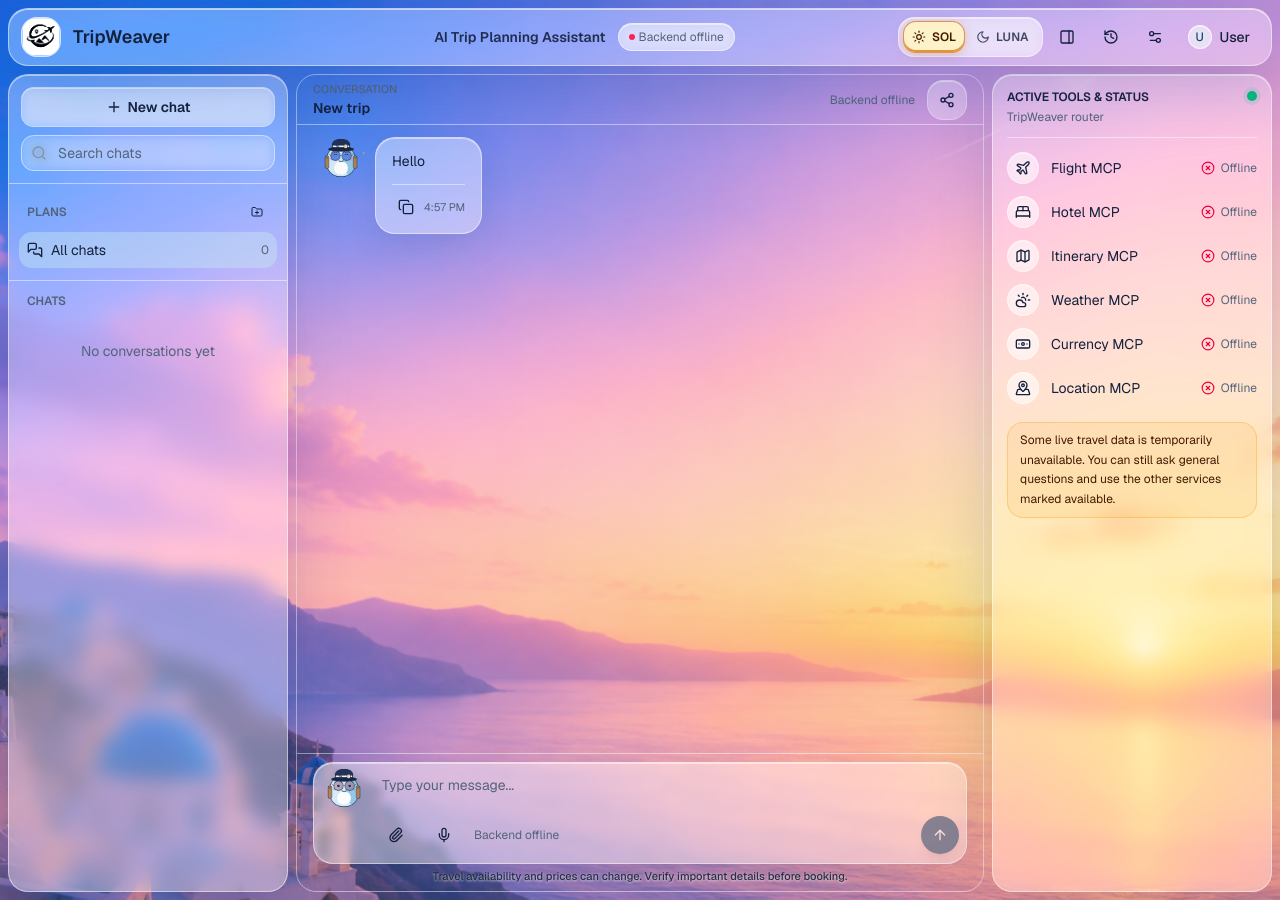
Test case: TripWeaverApp › keeps the welcome quiet and shows travel suggestions after a travel request
Expected: the button "Flights" is not shown
Type "I want to travel to Japan" into the text box named "Message TripWeaver".
click(667, 791); type("I want to travel to Japan")  # box [374, 769, 960, 813]
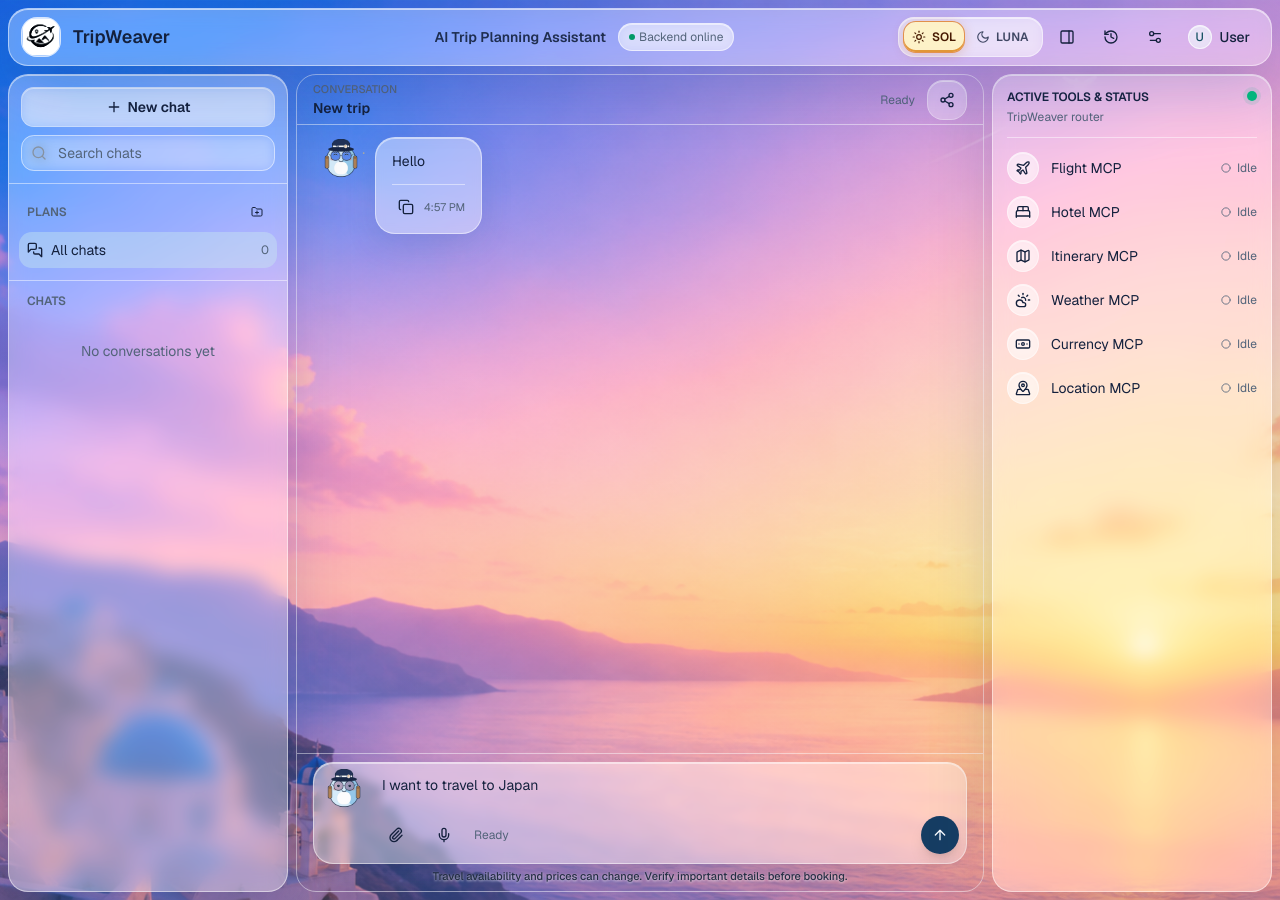
Click the button named "Send message".
click(940, 835)  # box [920, 815, 960, 855]
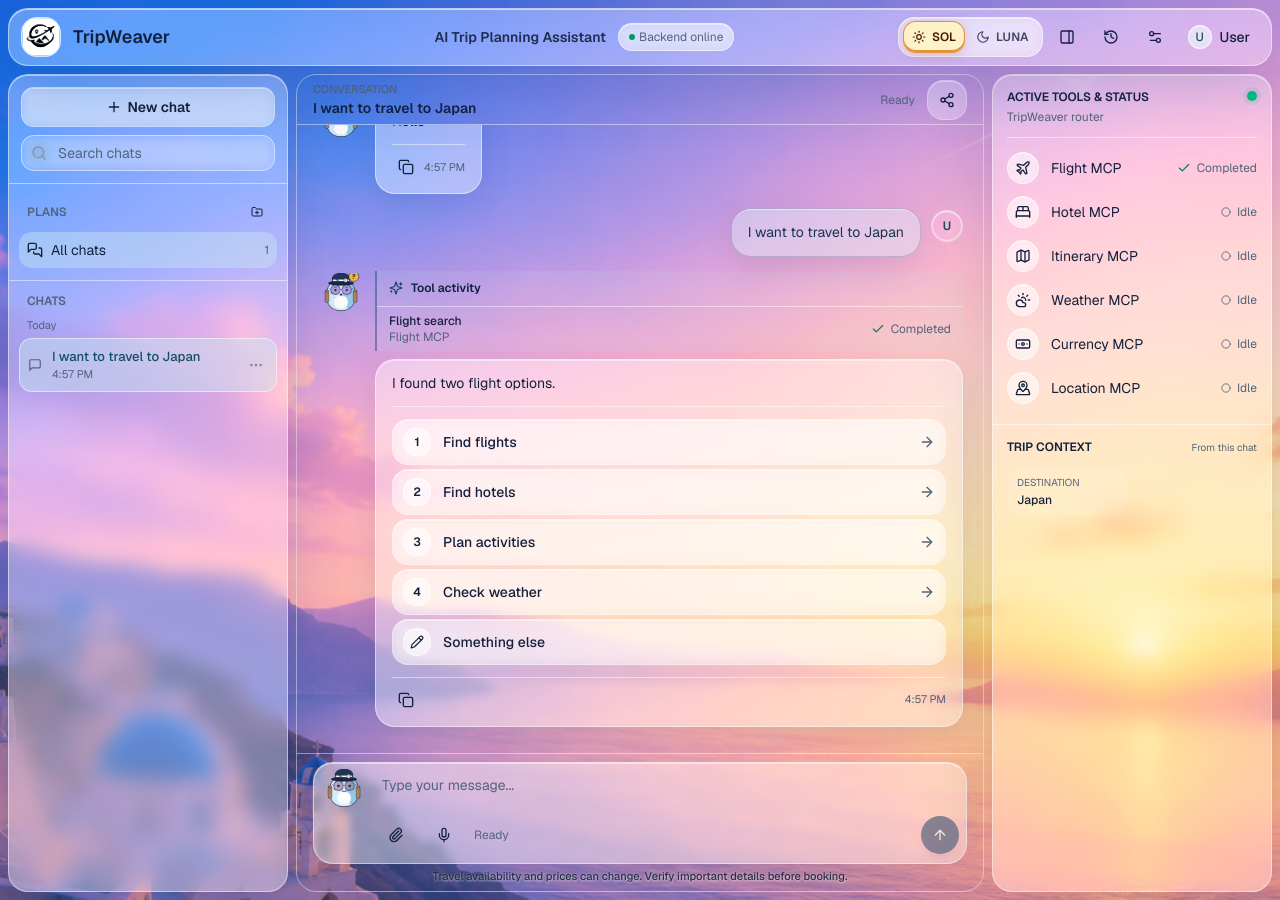
Expected: the text "I found two flight options." is shown, [392, 374, 555, 392]
Expected: the button "1 Find flights" is shown, [392, 419, 946, 465]
